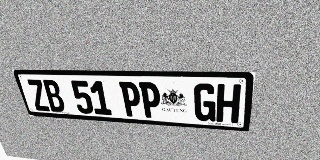1: (88, 81, 112, 115)
5: (70, 80, 95, 114)
B: (41, 80, 66, 112)
G: (194, 83, 217, 122)
H: (216, 84, 241, 123)
P: (139, 82, 162, 118), (119, 82, 142, 117)
Z: (26, 79, 51, 111)
